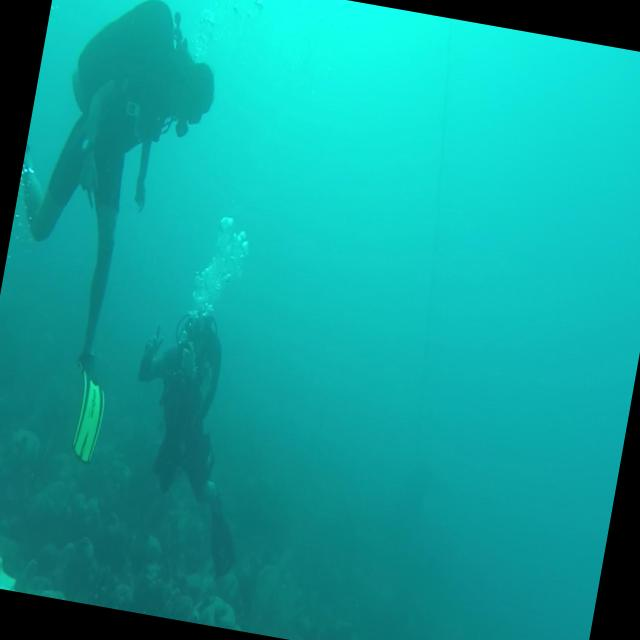human: (0, 0, 230, 473), (105, 299, 278, 582), (0, 299, 65, 591)
